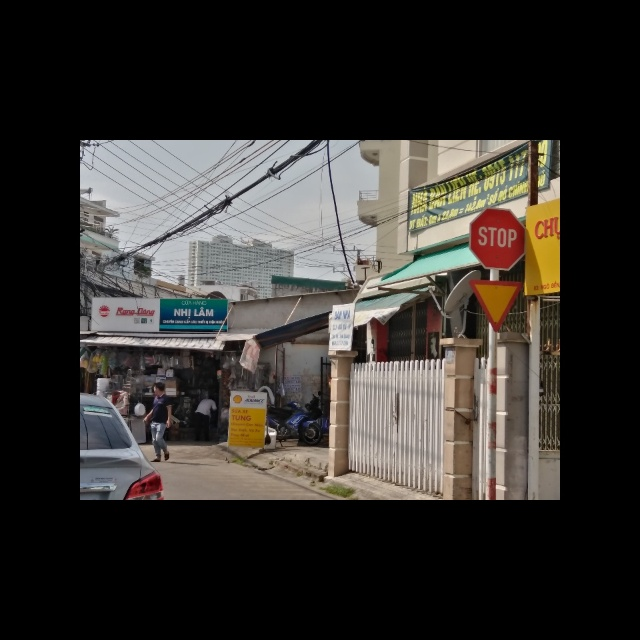Dừng lại: (469, 206, 524, 270)
Giao nhau với đường ưu tiên: (469, 280, 523, 334)
